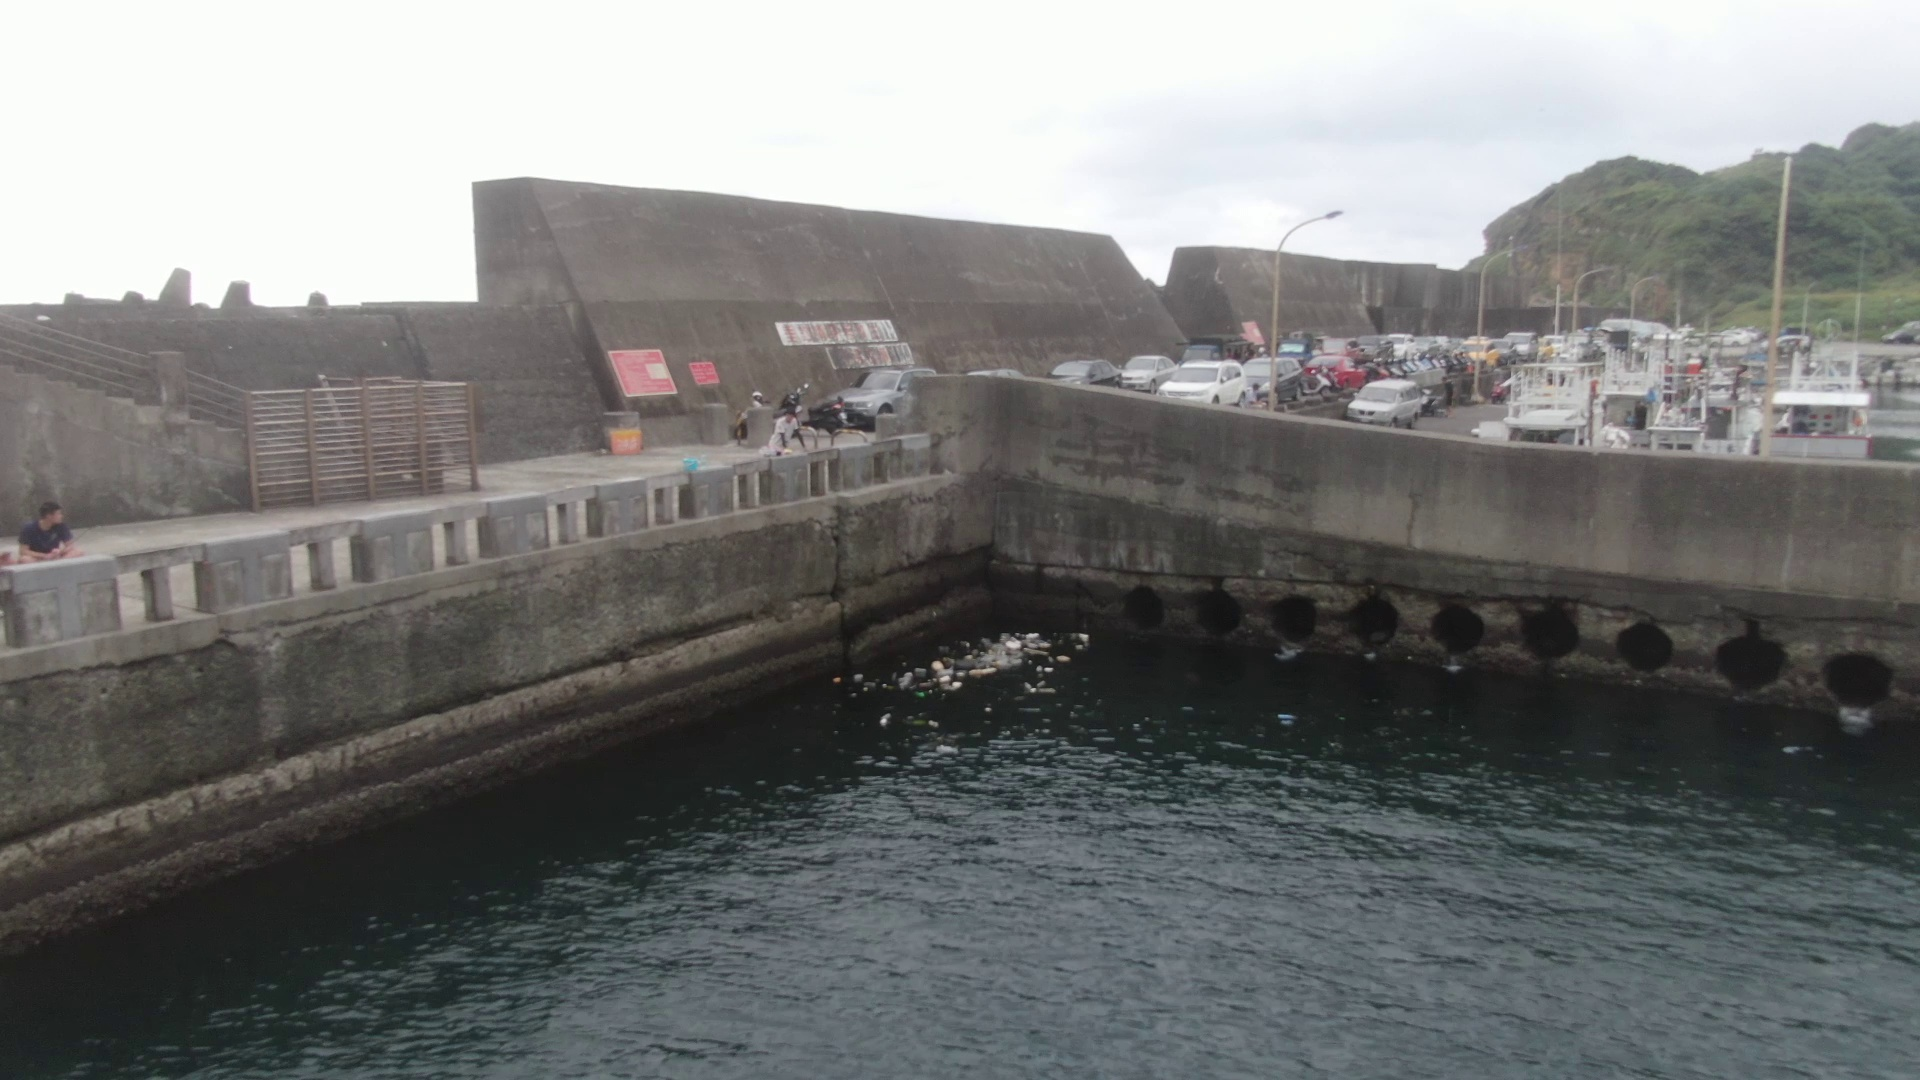garbage: (833, 624, 1109, 752)
